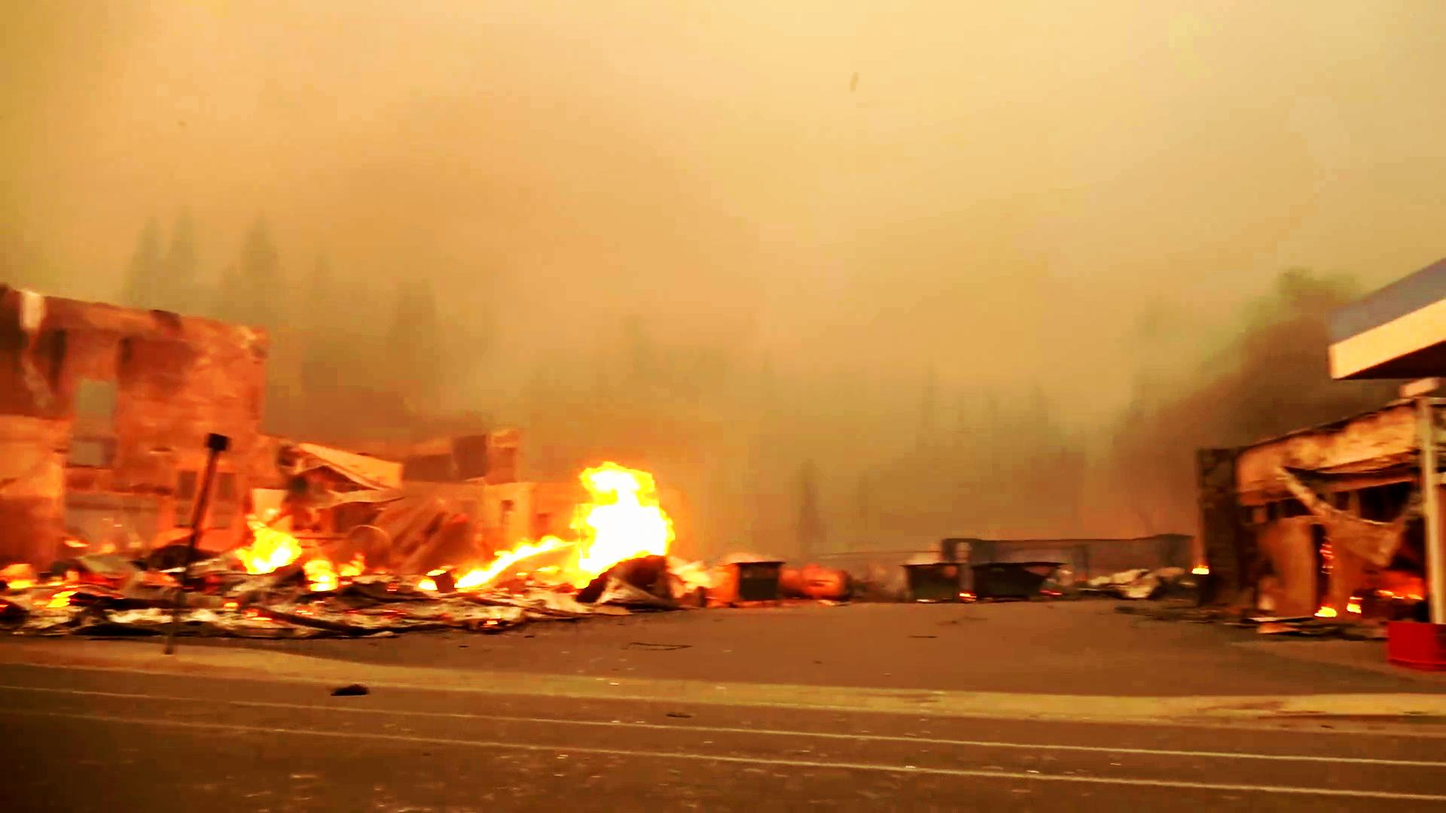fire: (573, 462, 659, 559)
